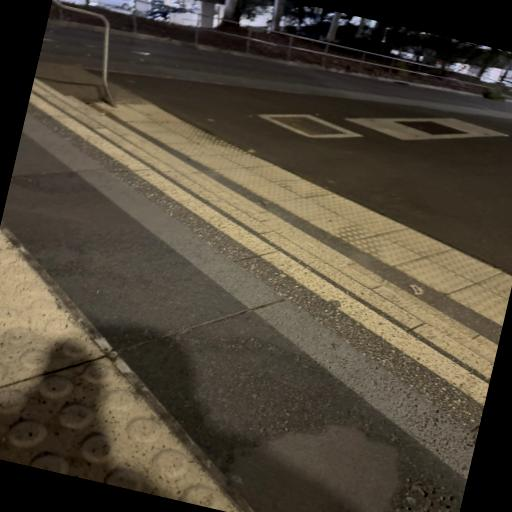stairs: (29, 82, 497, 405)
